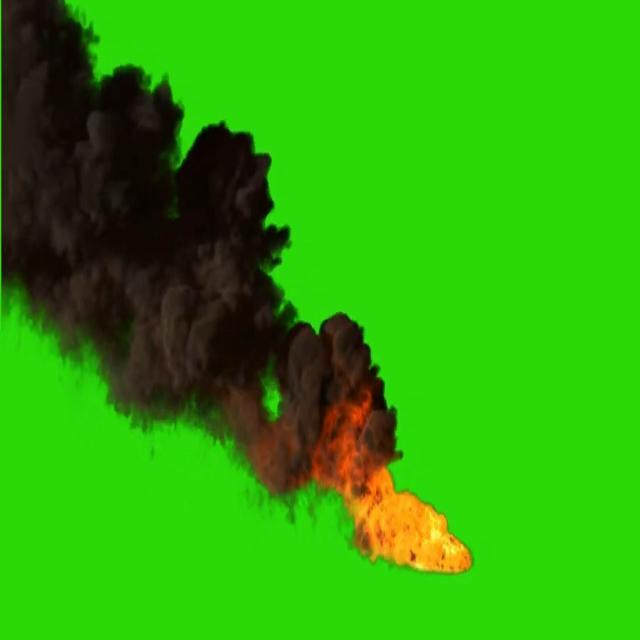Fire: (355, 484, 475, 582)
Smoke: (4, 5, 320, 503)
